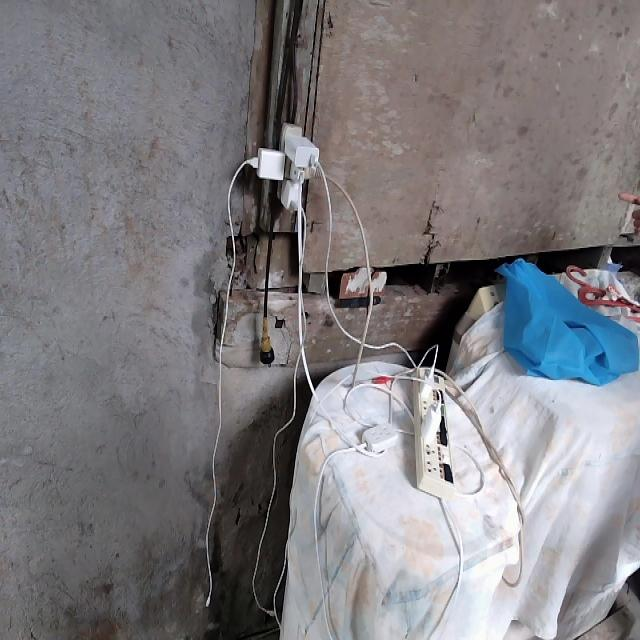-: (244, 123, 326, 215)
